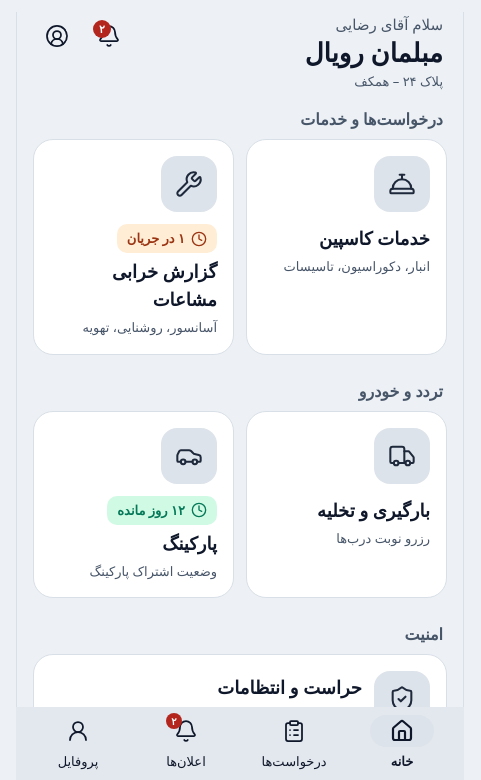
Scenario: home hub › opens notifications from the bell and marks all read
The width and height of the screenshot is (481, 780).
Click the button named "اعلان‌ها، ۲ خوانده‌نشده" at (109, 36), box [85,12,133,60]
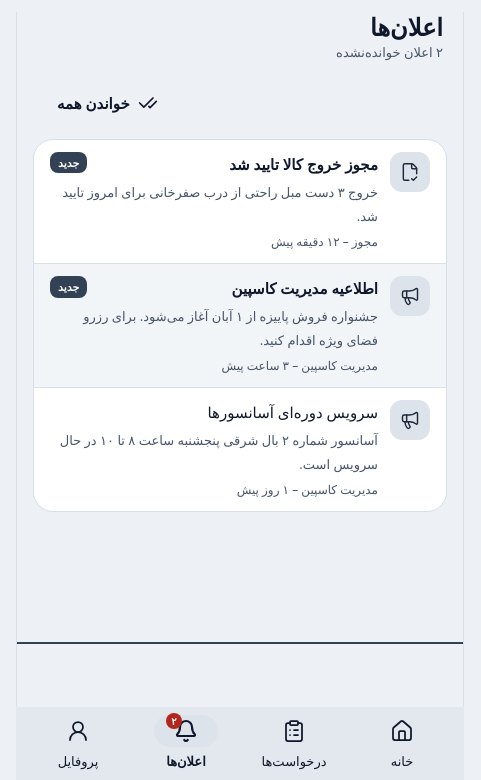
expect the heading "اعلان‌ها" is shown: met, box [370,12,443,43]
Click the button "خواندن همه" at (107, 103), box [33,79,182,127]
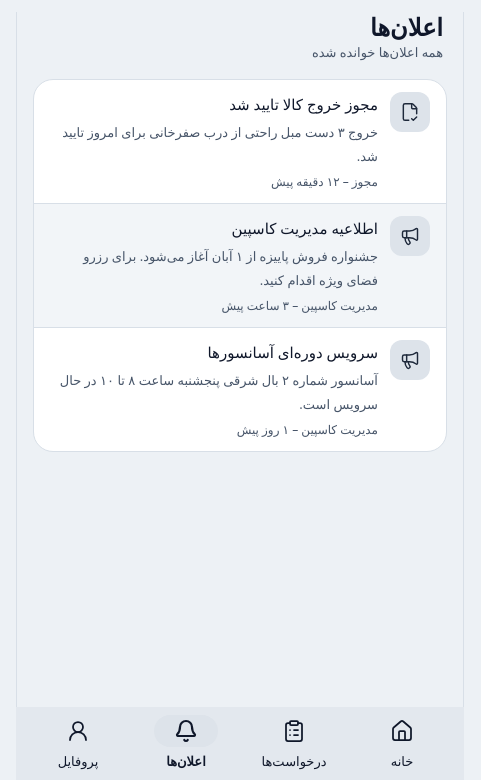
expect the text "همه اعلان‌ها خوانده شده" is shown: met, box [312,43,443,61]
